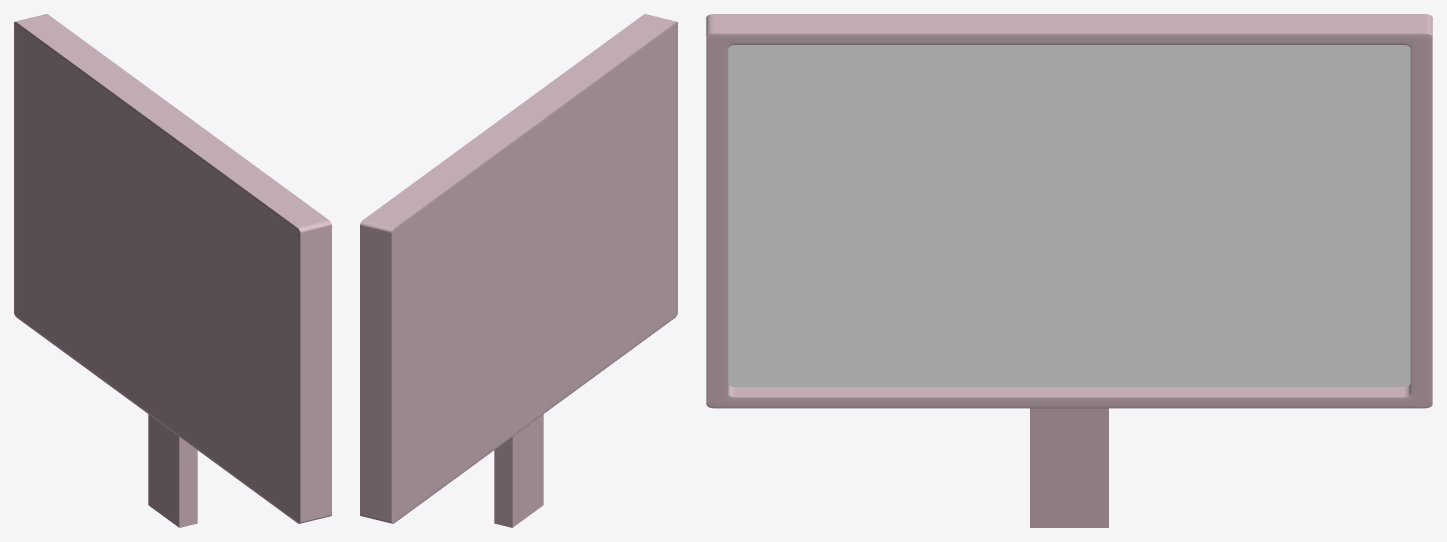
The model's file is board.glb.
3 renders of one model, left to right at view 1: azimuth 30°, elevation 25°; view 2: azimuth 150°, elevation 25°; view 3: azimuth 270°, elevation 25°, orthographic. The views are drawn at different scales.
Visible parts, largest first — view 1: column; view 2: column; view 3: Plane, column.
Boxes of the visible parts, <box> form: column: <box>14,14,331,527</box>; column: <box>360,14,677,527</box>; Plane: <box>728,45,1410,386</box>; column: <box>706,14,1432,527</box>.
Size of the model in its own units: 0.9465 by 11.04 by 14.58.
